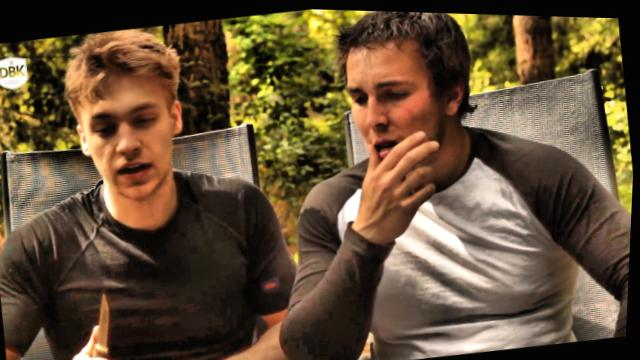knife: (58, 279, 141, 360)
